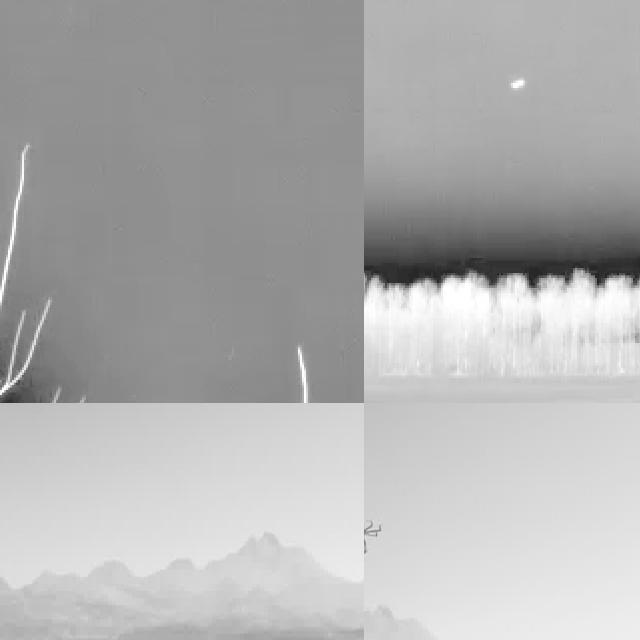0: (220, 341, 246, 371)
1: (502, 72, 538, 102)
drone: (364, 515, 384, 559)
